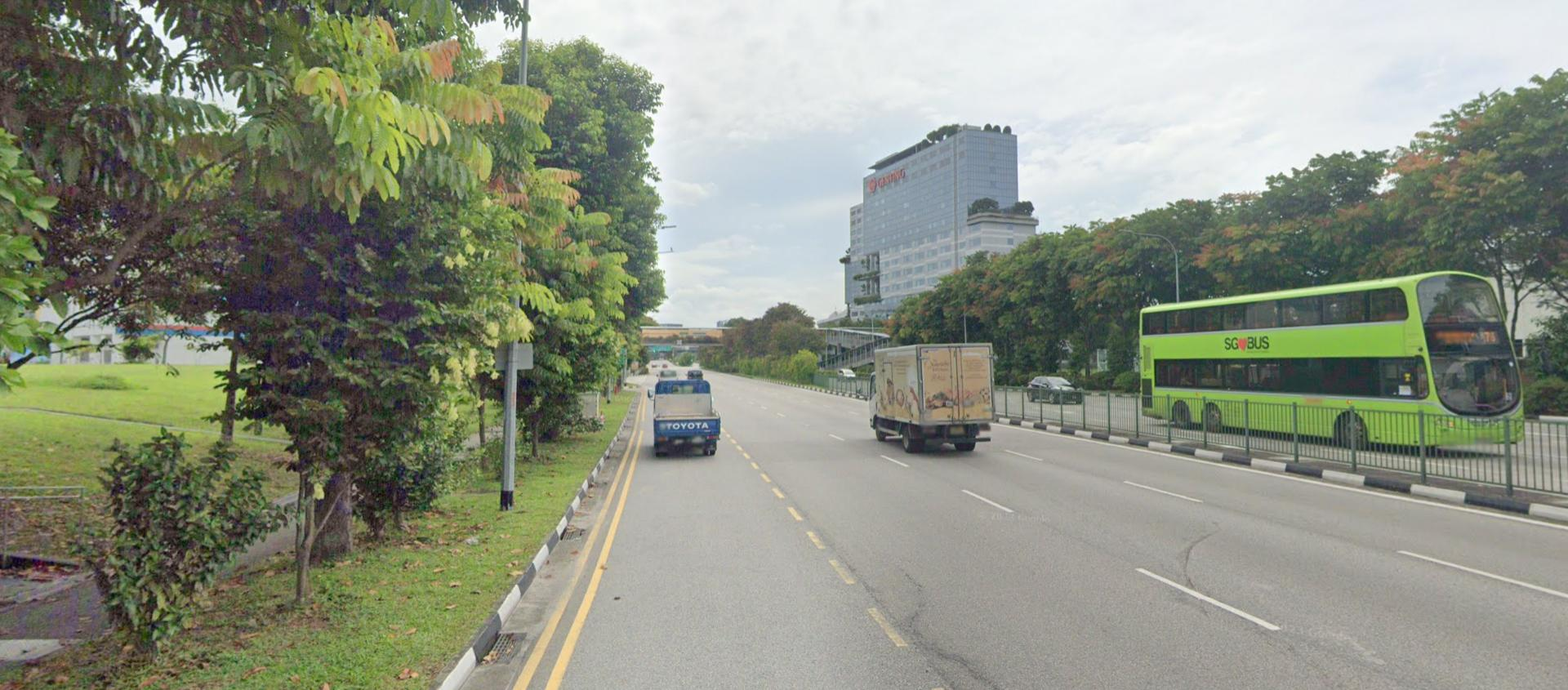defect: (485, 633, 529, 663), (562, 529, 586, 540)
